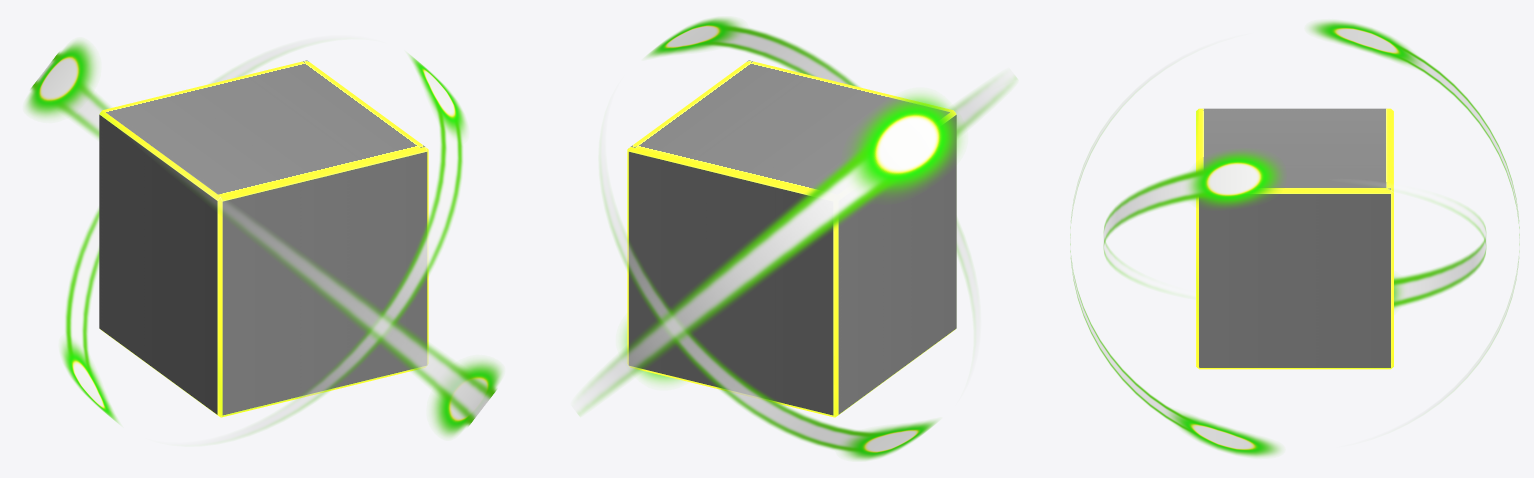
File: loading_object_animation.glb
3 views of the same model, side by side, from view 1: azimuth 30°, elevation 25°; view 2: azimuth 150°, elevation 25°; view 3: azimuth 270°, elevation 25° (orthographic). The views are drawn at different scales.
Parts seen in each view (by area): view 1: Cube_highlight, Sphere_1, Sphere; view 2: Cube_highlight, Sphere_1, Sphere; view 3: Cube_highlight, Sphere, Sphere_1.
Part boxes in pixels (x1=…): Cube_highlight: x1=99, y1=60, x2=428, y2=417; Sphere_1: x1=26, y1=41, x2=501, y2=436; Sphere: x1=61, y1=38, x2=466, y2=443; Cube_highlight: x1=627, y1=60, x2=956, y2=417; Sphere_1: x1=572, y1=69, x2=1016, y2=415; Sphere: x1=600, y1=18, x2=979, y2=459; Cube_highlight: x1=1196, y1=108, x2=1393, y2=369; Sphere: x1=1103, y1=151, x2=1486, y2=309; Sphere_1: x1=1070, y1=21, x2=1519, y2=456.
Size of the model in its own units: 0.3799 by 0.3778 by 0.4541.
Materials: 2 (2 with a texture image).
